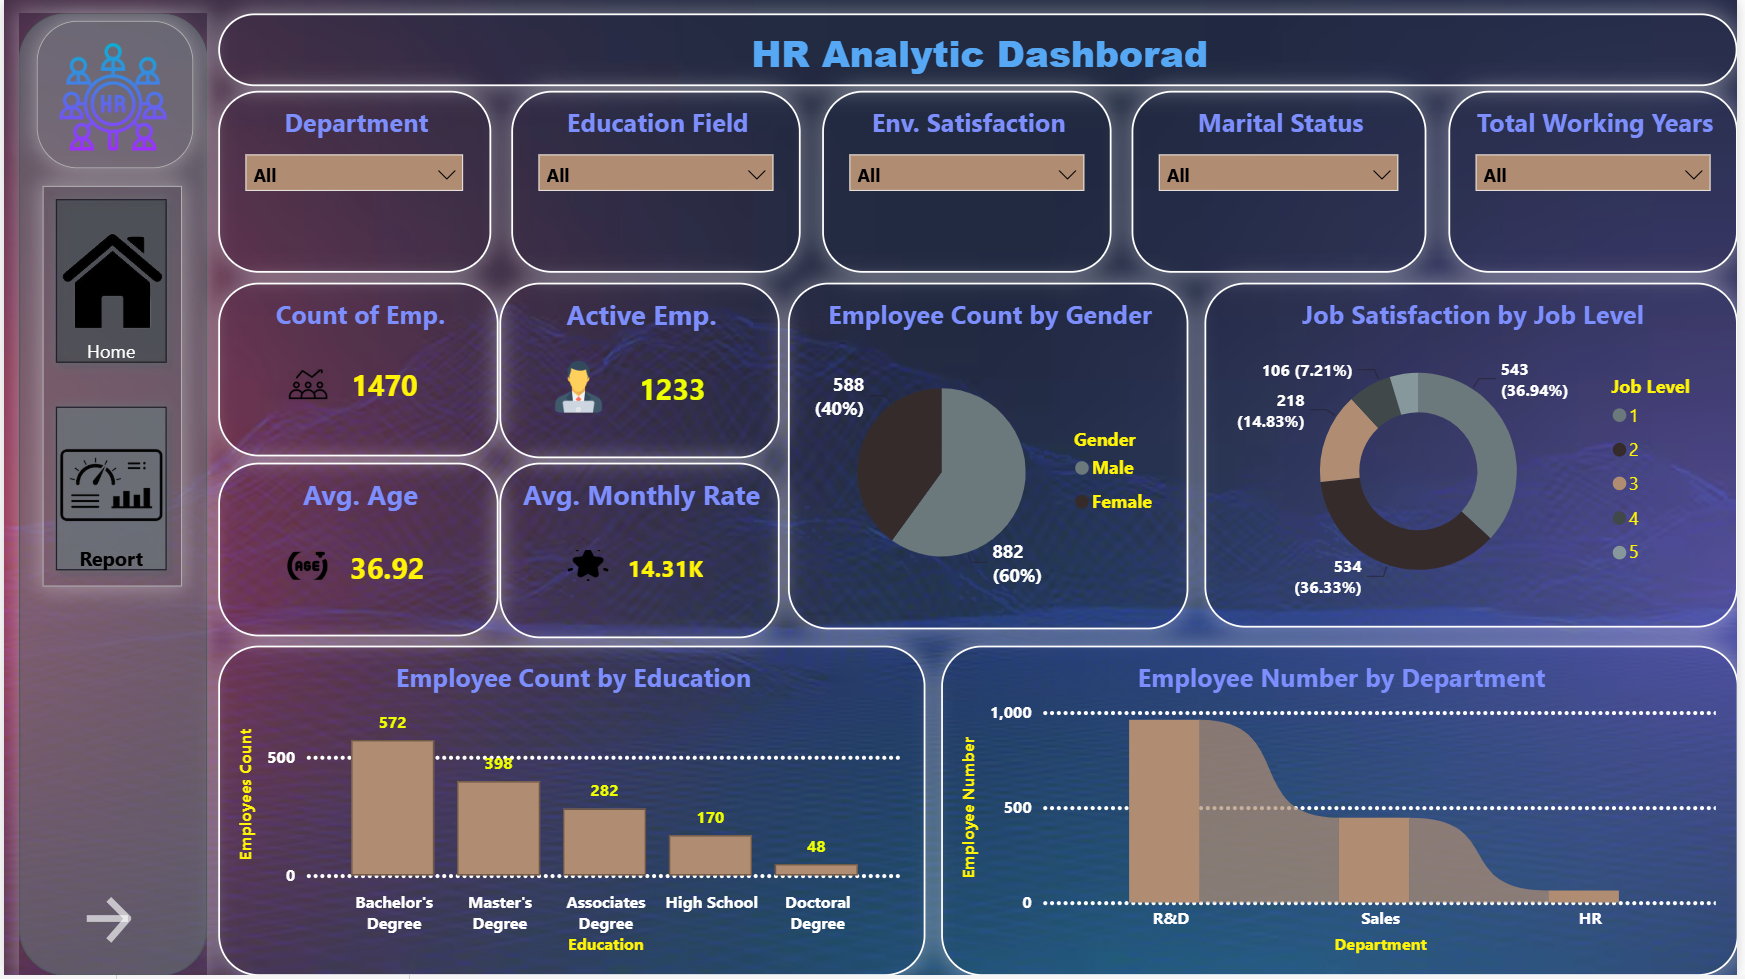

The dashboard page shown, as its layout file describes it:
{"tool":"powerbi","page":{"name":"Home ","canvas":[1280,720],"ordinal":0},"visuals":[{"type":"clusteredColumnChart","title":"Employee Count by Education","fields":{"Category":["HR data.Education"],"Y":["CountNonNull(HR data.Employee Count)"]},"box":[158.3,476.4,522.3,243.7],"z":0},{"type":"shape","box":[11.1,9.5,139.3,710.6],"z":1000},{"type":"pageNavigator","box":[28.5,137.7,102.9,296],"z":2000},{"type":"image","box":[17.4,128.2,125,158.3],"z":3000},{"type":"image","box":[28.5,302.3,101.3,112.4],"z":4000},{"type":"actionButton","box":[55.4,658.4,167.8,42.7],"z":5000},{"type":"pieChart","title":"Employee Count by Gender","fields":{"Category":["HR data.Gender"],"Y":["Sum(HR data.Employee Count)"]},"box":[579.3,208.9,296,256.4],"z":6000},{"type":"slicer","title":"Department","fields":{"Values":["HR data.Department"]},"box":[158.3,66.5,201.4,134.5],"z":7000},{"type":"cardVisual","title":"Count of Emp.","fields":{"Data":["CountNonNull(HR data.Employee Number)"]},"box":[158.3,208.9,207.3,128.2],"z":8000},{"type":"slicer","title":"Education Field","fields":{"Values":["HR data.Education Field"]},"box":[374.1,66.5,214,134.5],"z":9000},{"type":"cardVisual","title":"Avg. Age","fields":{"Data":["Avg(HR data.Age)"]},"box":[158.3,341.9,207.3,128.2],"z":10000},{"type":"slicer","title":"Env. Satisfaction","fields":{"Values":["HR data.Environment Satisfaction"]},"box":[604.3,66.5,214,134.5],"z":11000},{"type":"ribbonChart","fields":{"Category":["HR data.Department"],"Y":["CountNonNull(HR data.Employee Number)"]},"box":[691.6,476.4,588.8,243.7],"z":12000},{"type":"slicer","title":"Marital Status","fields":{"Values":["HR data.Marital Status"]},"box":[832.6,66.5,217.6,134.5],"z":13000},{"type":"donutChart","title":"Job Satisfaction by Job Level","fields":{"Category":["HR data.Job Level"],"Y":["CountNonNull(HR data.Job Satisfaction)"]},"box":[886.3,208.9,394.1,254.8],"z":14000},{"type":"slicer","title":"Total Working Years","fields":{"Values":["HR data.Total Working Years"]},"box":[1066.4,66.5,214,134.5],"z":15000},{"type":"textbox","title":"HR Analytic Dashborad","box":[157.9,9.5,1122.1,53.8],"z":16000},{"type":"cardVisual","title":"Active Emp.","fields":{"Data":["Calculation.Active Employee"]},"box":[365.6,208.9,207.3,129.8],"z":17000},{"type":"cardVisual","title":"Avg. Monthly Rate","fields":{"Data":["Avg(HR data.Monthly Rate)"]},"box":[365.6,341.9,207.3,129.8],"z":18000},{"type":"actionButton","box":[23.7,15.8,115.5,109.2],"z":19000},{"type":"image","box":[39.6,31.7,82.3,79.1],"z":20000}]}

Visuals, with their boxes in screenshot pixels (x1, y1, x2, y2), scaled from the page's 1280x720 canvas onto the 1745x979 screenshot:
"Employee Count by Education" clusteredColumnChart: {"left": 216, "top": 648, "right": 928, "bottom": 978}
shape: {"left": 15, "top": 13, "right": 205, "bottom": 978}
pageNavigator: {"left": 39, "top": 187, "right": 179, "bottom": 590}
image: {"left": 24, "top": 174, "right": 194, "bottom": 390}
image: {"left": 39, "top": 411, "right": 177, "bottom": 564}
actionButton: {"left": 76, "top": 895, "right": 304, "bottom": 953}
"Employee Count by Gender" pieChart: {"left": 790, "top": 284, "right": 1193, "bottom": 633}
"Department" slicer: {"left": 216, "top": 90, "right": 490, "bottom": 273}
"Count of Emp." cardVisual: {"left": 216, "top": 284, "right": 498, "bottom": 458}
"Education Field" slicer: {"left": 510, "top": 90, "right": 802, "bottom": 273}
"Avg. Age" cardVisual: {"left": 216, "top": 465, "right": 498, "bottom": 639}
"Env. Satisfaction" slicer: {"left": 824, "top": 90, "right": 1116, "bottom": 273}
ribbonChart - HR data.Department x CountNonNull(HR data.Employee Number): {"left": 943, "top": 648, "right": 1744, "bottom": 978}
"Marital Status" slicer: {"left": 1135, "top": 90, "right": 1432, "bottom": 273}
"Job Satisfaction by Job Level" donutChart: {"left": 1208, "top": 284, "right": 1744, "bottom": 631}
"Total Working Years" slicer: {"left": 1454, "top": 90, "right": 1744, "bottom": 273}
"HR Analytic Dashborad" textbox: {"left": 215, "top": 13, "right": 1744, "bottom": 86}
"Active Emp." cardVisual: {"left": 498, "top": 284, "right": 781, "bottom": 461}
"Avg. Monthly Rate" cardVisual: {"left": 498, "top": 465, "right": 781, "bottom": 641}
actionButton: {"left": 32, "top": 21, "right": 190, "bottom": 170}
image: {"left": 54, "top": 43, "right": 166, "bottom": 151}
